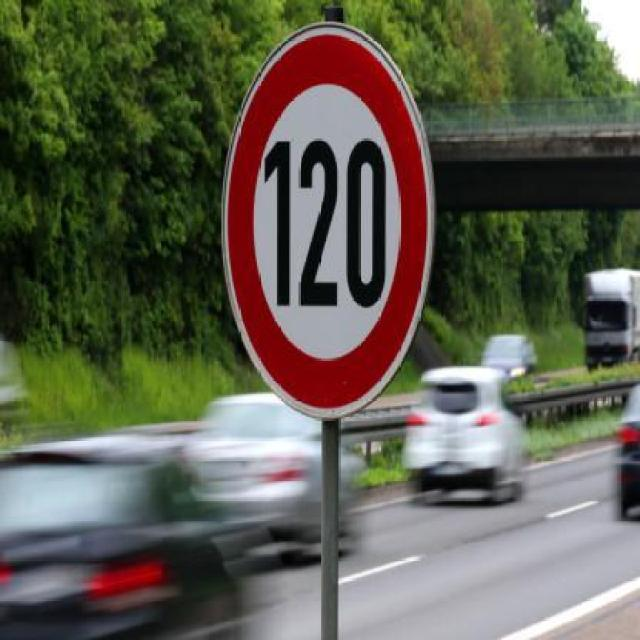forb_speed_over_120: (222, 23, 436, 417)
